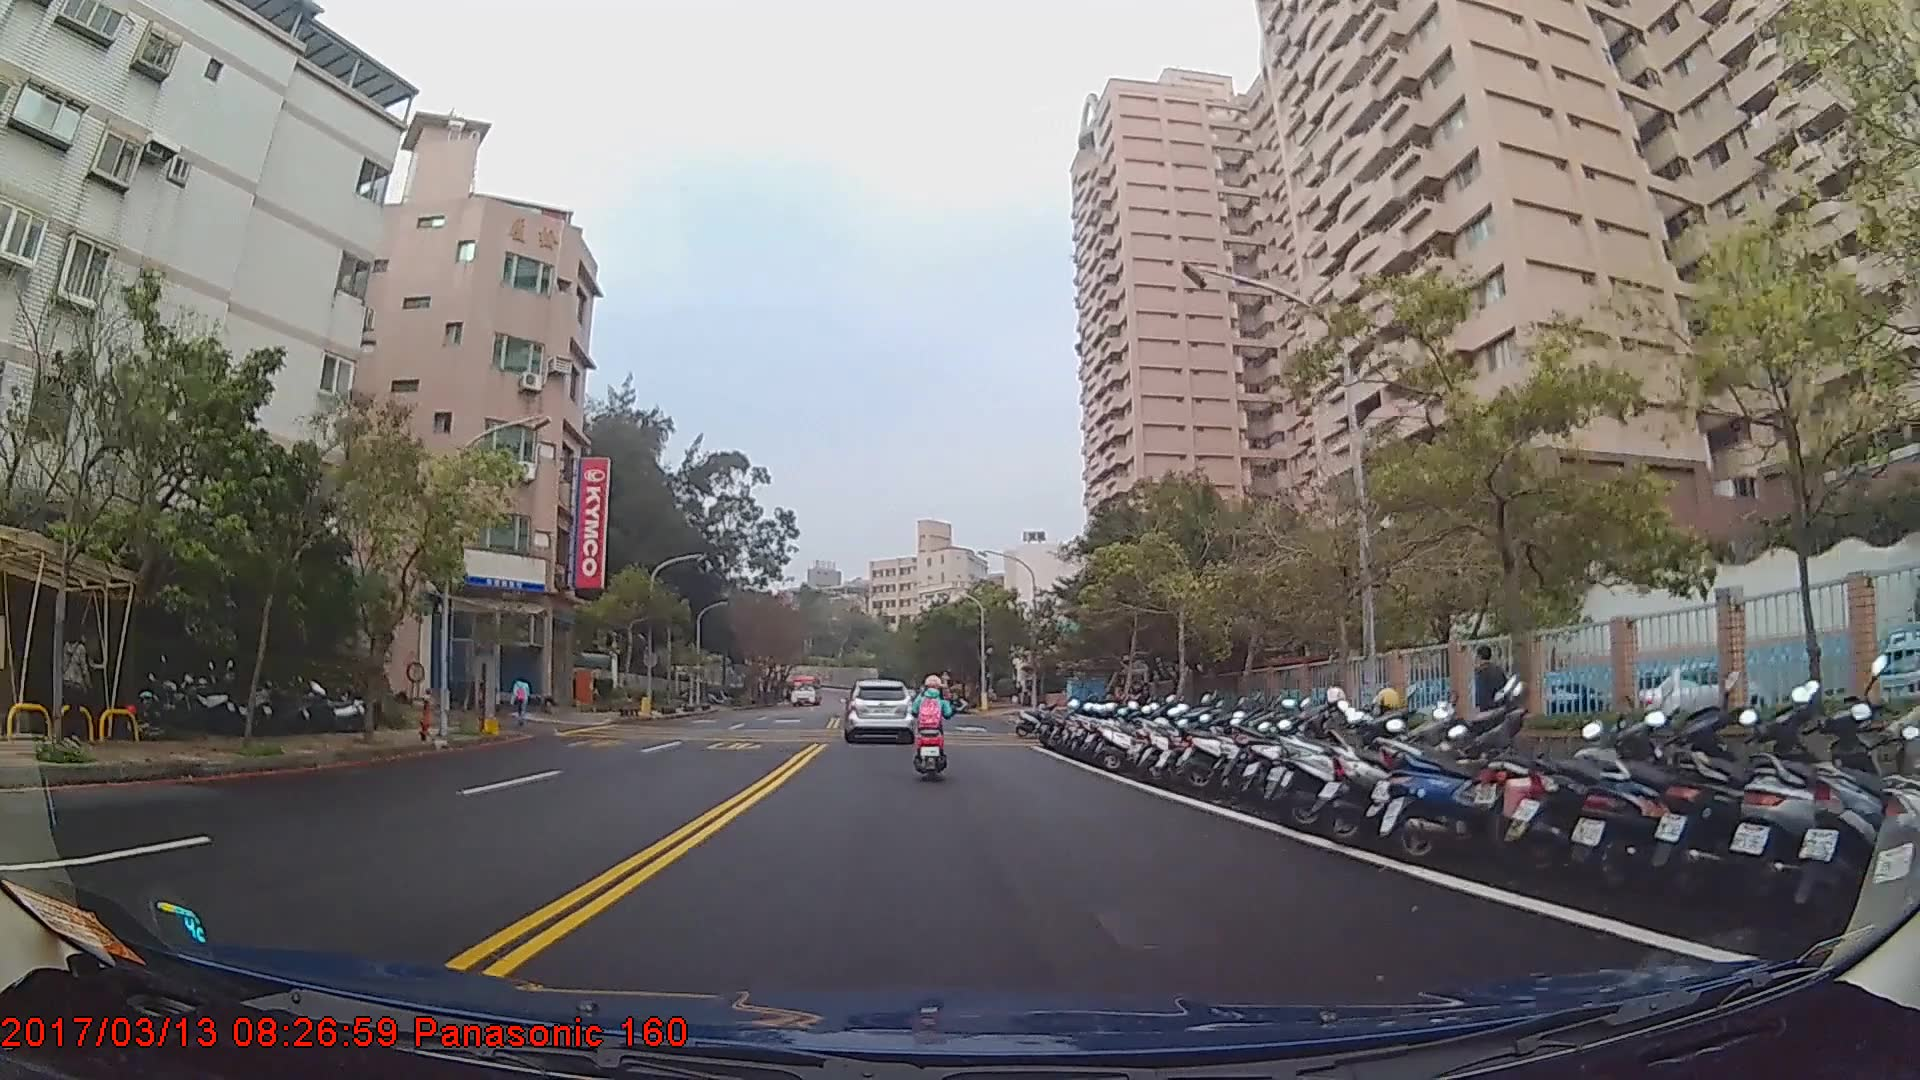pedestrian: (1470, 642, 1516, 770), (55, 623, 95, 749), (511, 669, 532, 727)
rider: (910, 672, 957, 785)
vehicle: (843, 674, 914, 741), (786, 670, 822, 707)
